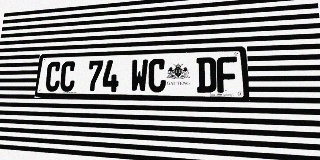4: (102, 60, 120, 92)
7: (86, 60, 103, 92)
C: (148, 58, 166, 92), (59, 61, 76, 92), (45, 62, 62, 92)
D: (197, 57, 217, 93)
F: (217, 56, 238, 93)
W: (130, 59, 148, 92)
